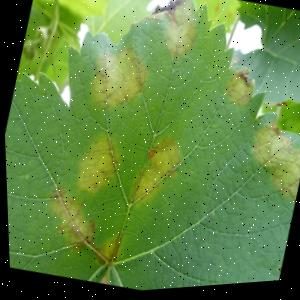Folha: (0, 0, 300, 300)
Fungo: (66, 117, 186, 219), (32, 176, 137, 277), (82, 37, 154, 120), (239, 116, 300, 208), (126, 131, 186, 215), (68, 128, 126, 203), (153, 0, 207, 69), (220, 66, 258, 114), (146, 149, 154, 161)
